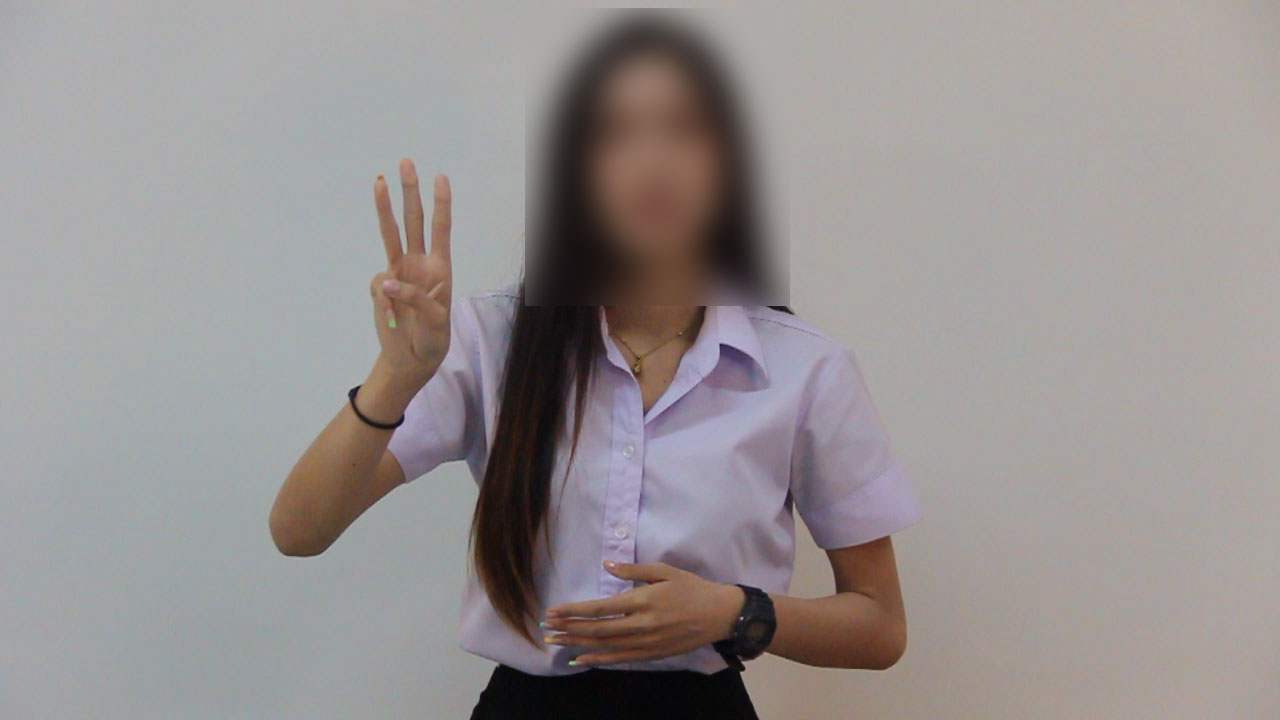wor: (353, 149, 458, 402)
